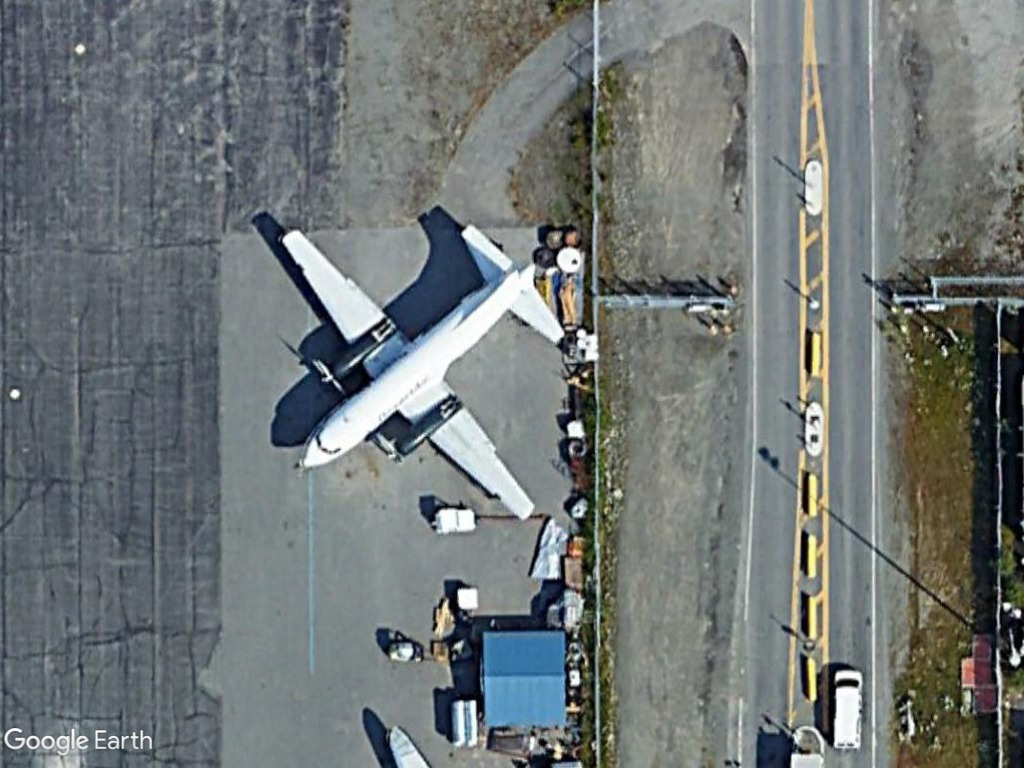propeller: (267, 213, 572, 529)
van: (826, 660, 865, 755)
